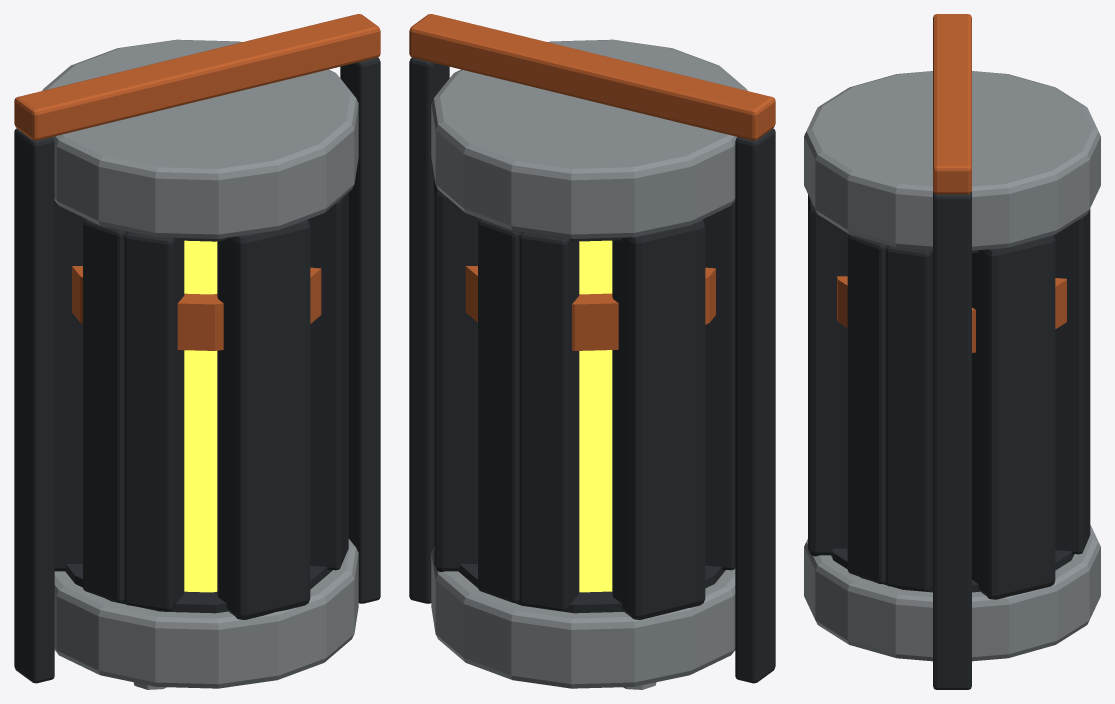
Rendered from aux_cell.glb.
3 views of the same model, side by side, from view 1: azimuth 30°, elevation 25°; view 2: azimuth 150°, elevation 25°; view 3: azimuth 270°, elevation 25° (orthographic). The views are drawn at different scales.
Parts seen in each view (by area): view 1: cap2, rib0, cap-2, slat2_1, rail-1, handle, rail1, slat2_0, slat0_0, core, rib2, band (+1 smaller); view 2: cap2, rib2, cap-2, rail-1, slat1_1, handle, slat1_0, rib1, rail1, slat2_0, core, band (+1 smaller); view 3: cap2, rib1, rail1, cap-2, slat0_1, slat0_0, rib0, slat1_0, handle, band, collar-2.
Part boxes in pixels (x1,y1,x2,y2): cap2: [42, 39, 358, 238]; rib0: [217, 219, 310, 619]; cap-2: [54, 539, 358, 688]; slat2_1: [124, 231, 184, 611]; rail-1: [14, 128, 54, 683]; handle: [14, 14, 380, 140]; rail1: [340, 57, 380, 603]; slat2_0: [83, 219, 126, 602]; slat0_0: [307, 192, 348, 570]; core: [184, 240, 217, 592]; rib2: [54, 201, 85, 571]; band: [72, 266, 321, 350]; cap2: [431, 39, 747, 238]; rib2: [612, 219, 705, 619]; cap-2: [431, 547, 735, 688]; rail-1: [735, 128, 775, 683]; slat1_1: [519, 232, 579, 611]; handle: [409, 14, 775, 140]; slat1_0: [478, 219, 521, 602]; rib1: [434, 178, 480, 571]; rail1: [409, 57, 449, 603]; slat2_0: [702, 201, 735, 570]; core: [579, 240, 612, 592]; band: [465, 266, 715, 350]; cap2: [804, 71, 1100, 250]; rib1: [972, 235, 1055, 599]; rail1: [933, 191, 971, 689]; cap-2: [804, 525, 1100, 661]; slat0_1: [885, 245, 932, 591]; slat0_0: [847, 234, 887, 584]; rib0: [808, 194, 848, 556]; slat1_0: [1053, 209, 1090, 554]; handle: [933, 14, 971, 194]; band: [837, 276, 1066, 352]; collar-2: [831, 548, 1074, 592].
Size of the model in its own units: 0.47 by 0.785 by 0.38.
